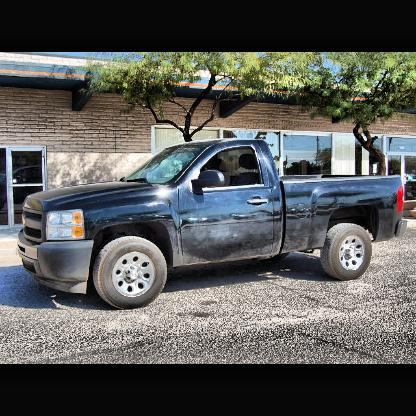Chevrolet Silverado 1500 Regular Cab 2012: (19, 141, 408, 311)
